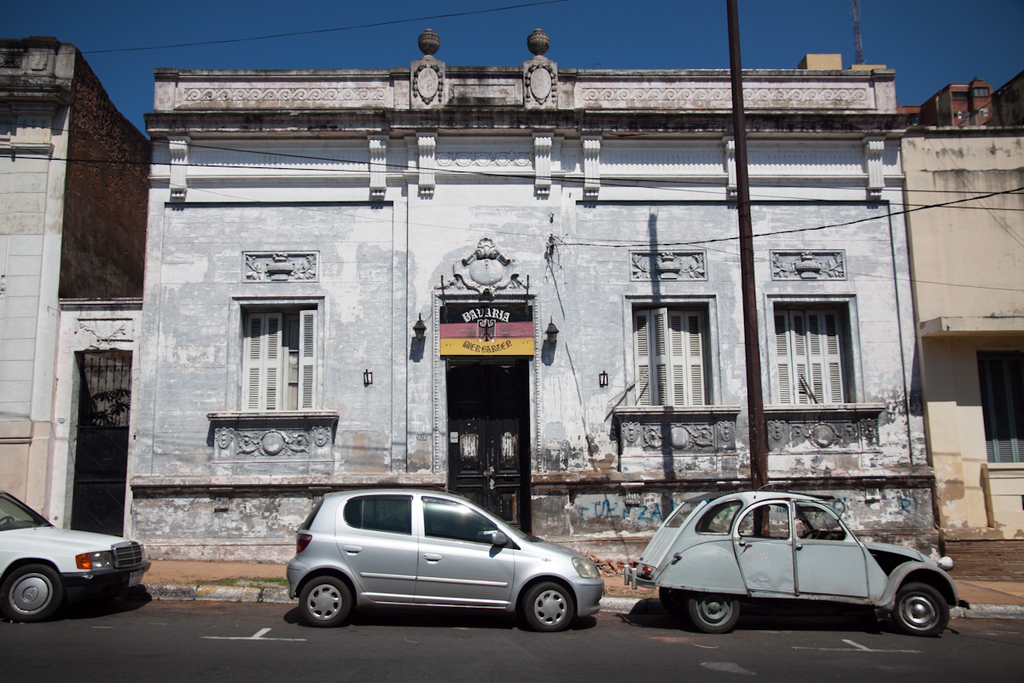Car: (619, 472, 974, 628), (276, 492, 615, 641), (0, 484, 154, 625)
